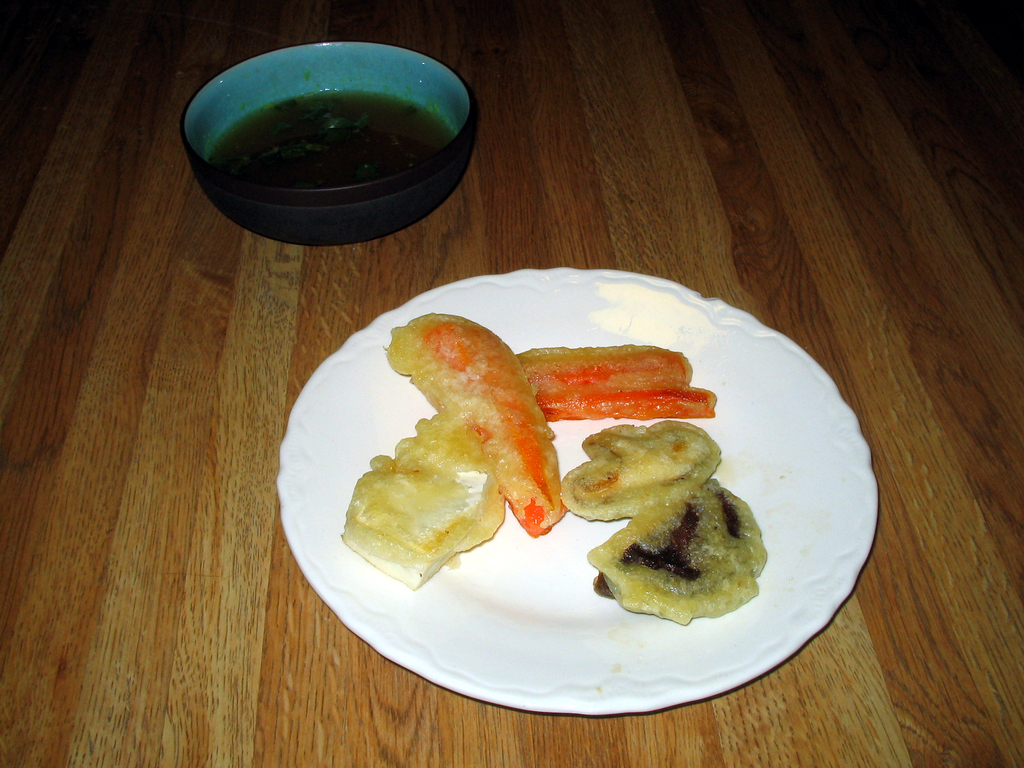plate: (228, 387, 889, 734)
